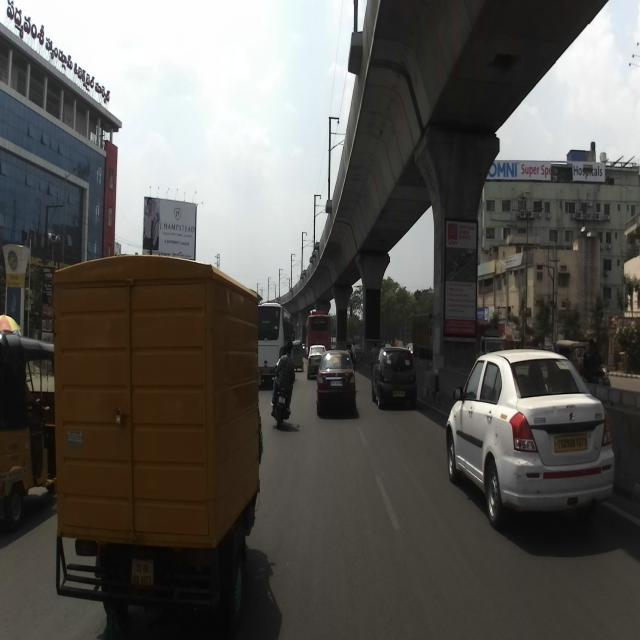autorickshaw: (0, 330, 56, 532)
car: (444, 348, 616, 530), (371, 346, 418, 408)
truck: (52, 252, 263, 636)
